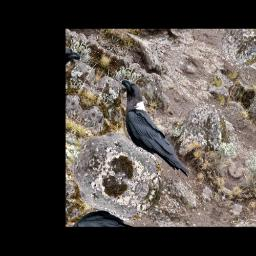Crow: (99, 76, 213, 179)
